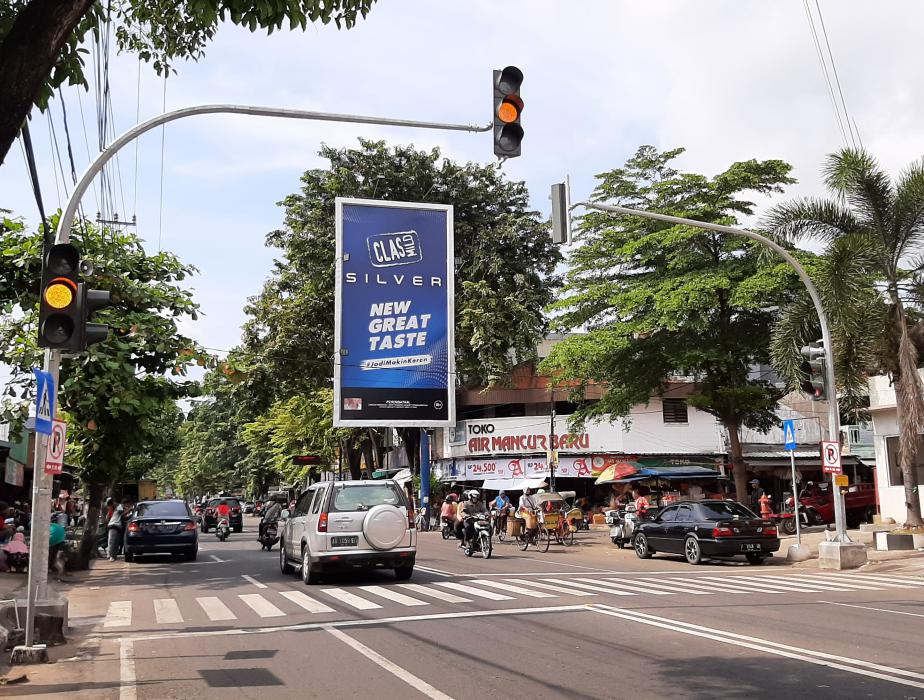trafficlight: (47, 234, 88, 352), (487, 66, 534, 151)
zebracross: (110, 571, 875, 635)
